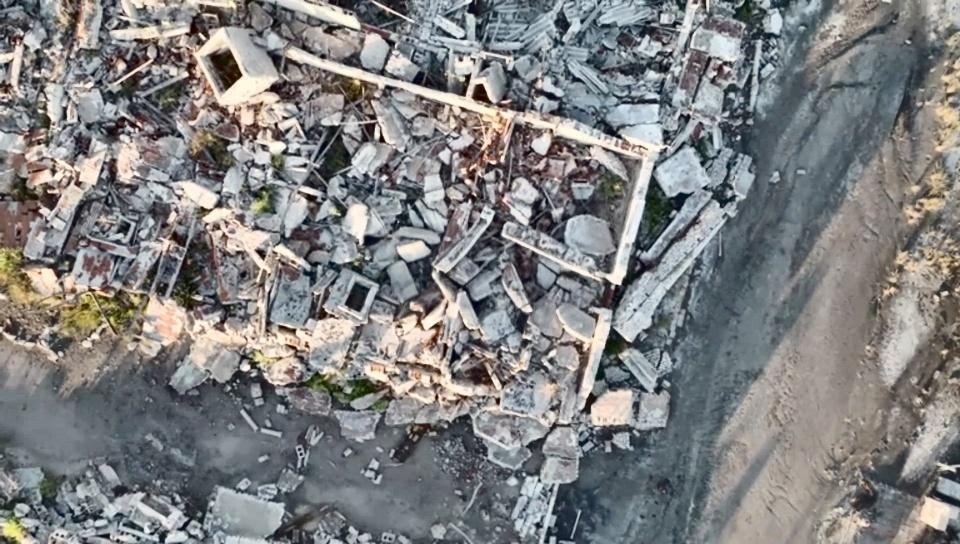kapali: (0, 354, 590, 543)
